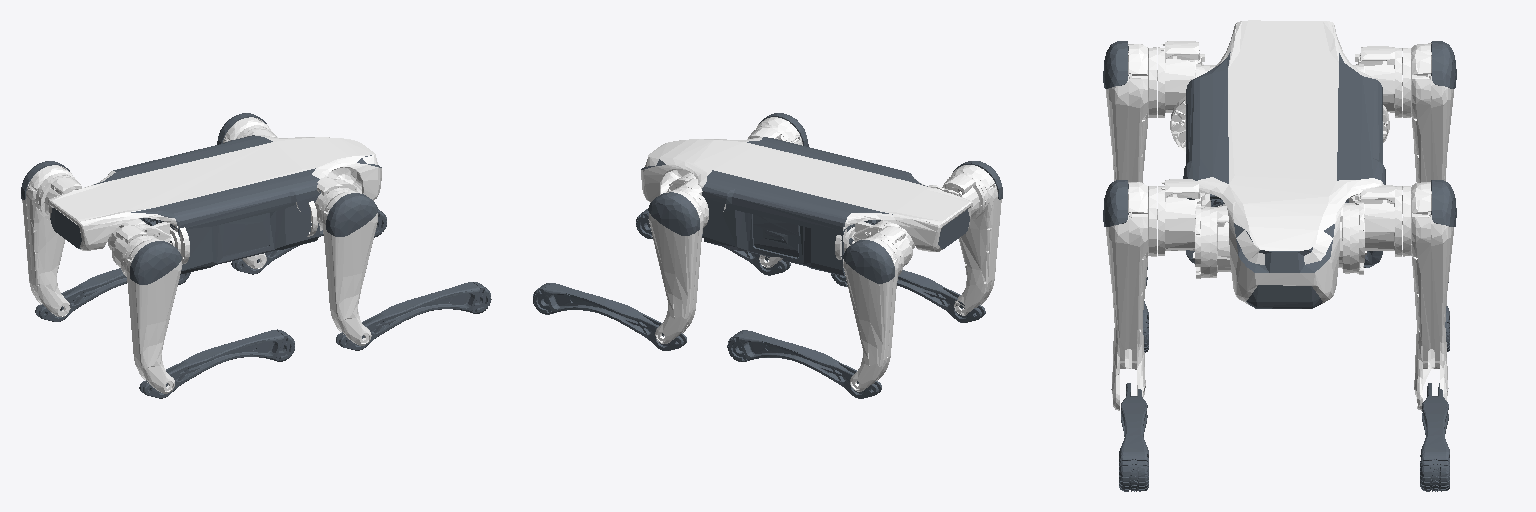
The robot description file, URDF, robot "MiniLiteV3":
<?xml version="1.0" encoding="utf-8"?> 
<robot name="MiniLiteV3"> 
  <link name="TORSO"> 
    <visual> 
      <origin rpy="1.5708 0 1.5708" xyz="-0.05 -0.5 0.08"/> 
      <geometry> 
        <mesh filename="package://lite3_description/meshes/TORSO.dae" /> 
      </geometry> 
    </visual> 
    <collision> 
      <geometry> 
        <box size="0.234 0.184 0.08"/> 
      </geometry> 
    </collision> 
  </link> 
 
  <link name="INERTIA"> 
    <inertial> 
      <origin xyz="0.004098 -0.000663 -0.002069" /> 
      <mass value="4.130" /> 
      <inertia ixx="0.016982120" ixy="2.1294E-05" ixz="6.0763E-05" iyy="0.030466501" iyz="1.7968E-05" izz="0.042609956" /> 
    </inertial> 
  </link> 
 
  <joint name="Torso2Inertia" type="fixed"> 
    <parent link="TORSO" /> 
    <child link="INERTIA" /> 
  </joint> 
 
  <link name="FL_HIP"> 
    <inertial> 
      <origin xyz="-0.0047 -0.0091 -0.0018" /> 
      <mass value="0.428" /> 
      <inertia ixx="0.00014538" ixy="8.1579E-07" ixz="-1.264E-05" iyy="0.00024024" iyz="1.3443E-06" izz="0.00013038" /> 
    </inertial> 
    <visual> 
      <origin rpy="1.5708 0 1.5708" xyz="-0.231 -0.55 0.09"/> 
      <geometry> 
        <mesh filename="package://lite3_description/meshes/FL_HIP.dae" /> 
      </geometry> 
    </visual> 
  </link> 
 
  <joint name="FL_HipX" type="revolute"> 
    <origin xyz="0.1745 0.062 0" /> 
    <parent link="TORSO" /> 
    <child link="FL_HIP" /> 
    <axis xyz="-1 0 0" /> 
    <limit lower="-0.523" upper="0.523" effort="40" velocity="30" /> 
  </joint> 
 
  <link name="FL_THIGH"> 
    <inertial> 
      <origin xyz="-0.00523 -0.0216 -0.0273" /> 
      <mass value="0.61" /> 
      <inertia ixx="0.001" ixy="-2.5E-06" ixz="-1.12E-04" iyy="0.00116" iyz="3.75E-07" izz="2.68E-04" /> 
    </inertial> 
    <visual> 
      <origin rpy="-2.0 0 1.5708" xyz="0.24 -0.66 0.021"/> 
      <geometry> 
        <mesh filename="package://lite3_description/meshes/L_THIGH.dae" /> 
      </geometry> 
    </visual> 
    <collision> 
      <origin xyz="0 0 -0.08"/> 
      <geometry> 
        <box size="0.02 0.02 0.16"/> 
      </geometry> 
    </collision> 
  </link> 
 
  <joint name="FL_HipY" type="revolute"> 
    <origin xyz="0 0.0985 0" /> 
    <parent link="FL_HIP" /> 
    <child link="FL_THIGH" /> 
    <axis xyz="0 -1 0" /> 
    <limit lower="-2.67" upper="0.314" effort="40" velocity="30" /> 
  </joint> 
 
  <link name="FL_SHANK"> 
    <inertial> 
      <origin xyz="0.00585 -8.732E-07 -0.12" /> 
      <mass value="0.115" /> 
      <inertia ixx="6.68E-04" ixy="-1.24E-08" ixz="6.91E-06" iyy="6.86E-04" iyz="5.65E-09" izz="3.155E-05" /> 
    </inertial> 
    <visual> 
      <geometry> 
        <mesh filename="package://lite3_description/meshes/SHANK.dae" /> 
      </geometry> 
    </visual> 
    <collision> 
      <origin xyz="0 0 -0.09"/> 
      <geometry> 
        <box size="0.02 0.02 0.18"/> 
      </geometry> 
    </collision> 
  </link> 
 
  <joint name="FL_Knee" type="revolute"> 
    <origin xyz="0 0 -0.20" /> 
    <parent link="FL_THIGH" /> 
    <child link="FL_SHANK" /> 
    <axis xyz="0 -1 0" /> 
    <limit lower="0.524" upper="2.792" effort="65" velocity="20" /> 
  </joint> 
 
  <link name="FL_FOOT"> 
    <inertial> 
      <mass value="1E-12" /> 
      <inertia ixx="1E-12" ixy="0" ixz="0" iyy="1E-12" iyz="0" izz="1E-12" /> 
    </inertial> 
    <collision> 
      <geometry> 
        <sphere radius="0.013"/> 
      </geometry> 
    </collision> 
  </link> 
 
  <joint name="FL_Ankle" type="fixed"> 
    <origin xyz="0 0 -0.21"/> 
    <parent link="FL_SHANK" /> 
    <child link="FL_FOOT" /> 
  </joint> 
 
  <link name="FR_HIP"> 
    <inertial> 
      <origin xyz="-0.0047 0.0091 -0.0018" /> 
      <mass value="0.428" /> 
      <inertia ixx="0.00014538" ixy="-8.1551E-07" ixz="-1.2639E-05" iyy="0.00024024" iyz="-1.3441E-06" izz="0.00013038" /> 
    </inertial> 
    <visual> 
      <origin rpy="1.5708 0 1.5708" xyz="-0.231 -0.46 0.085"/> 
      <geometry> 
        <mesh filename="package://lite3_description/meshes/FR_HIP.dae" /> 
      </geometry> 
    </visual> 
  </link> 
 
  <joint name="FR_HipX" type="revolute"> 
    <origin xyz="0.1745 -0.062 0" /> 
    <parent link="TORSO" /> 
    <child link="FR_HIP" /> 
    <axis xyz="-1 0 0" /> 
    <limit lower="-0.523" upper="0.523" effort="40" velocity="30" /> 
  </joint> 
 
  <link name="FR_THIGH"> 
    <inertial> 
      <origin xyz="-0.00523 0.0216 -0.0273" /> 
      <mass value="0.61" /> 
      <inertia ixx="0.001" ixy="2.5E-06" ixz="-1.12E-04" iyy="0.00116" iyz="-3.75E-07" izz="2.68E-04" /> 
    </inertial> 
    <visual> 
      <origin rpy="-2.0 0 1.5708" xyz="0.24 -0.35 0.021"/> 
      <geometry> 
        <mesh filename="package://lite3_description/meshes/R_THIGH.dae" /> 
      </geometry> 
    </visual> 
    <collision> 
      <origin xyz="0 0 -0.08"/> 
      <geometry> 
        <box size="0.02 0.02 0.16"/> 
      </geometry> 
    </collision> 
  </link> 
 
  <joint name="FR_HipY" type="revolute"> 
    <origin xyz="0 -0.0985 0" /> 
    <parent link="FR_HIP" /> 
    <child link="FR_THIGH" /> 
    <axis xyz="0 -1 0" /> 
    <limit lower="-2.67" upper="0.314" effort="40" velocity="30" /> 
  </joint> 
 
  <link name="FR_SHANK"> 
    <inertial> 
      <origin xyz="0.00585 -8.732E-07 -0.12" /> 
      <mass value="0.115" /> 
      <inertia ixx="6.68E-04" ixy="-1.24E-08" ixz="6.91E-06" iyy="6.86E-04" iyz="5.65E-09" izz="3.155E-05" /> 
    </inertial> 
    <visual> 
      <geometry> 
        <mesh filename="package://lite3_description/meshes/SHANK.dae" /> 
      </geometry> 
    </visual> 
    <collision> 
      <origin xyz="0 0 -0.09"/> 
      <geometry> 
        <box size="0.02 0.02 0.18"/> 
      </geometry> 
    </collision> 
  </link> 
 
  <joint name="FR_Knee" type="revolute"> 
    <origin xyz="0 0 -0.20" /> 
    <parent link="FR_THIGH" /> 
    <child link="FR_SHANK" /> 
    <axis xyz="0 -1 0" /> 
    <limit lower="0.524" upper="2.792" effort="65" velocity="20" /> 
  </joint> 
 
  <link name="FR_FOOT"> 
    <inertial> 
      <mass value="1E-12" /> 
      <inertia ixx="1E-12" ixy="0" ixz="0" iyy="1E-12" iyz="0" izz="1E-12" /> 
    </inertial> 
    <collision> 
      <geometry> 
        <sphere radius="0.013"/> 
      </geometry> 
    </collision> 
  </link> 
 
  <joint name="FR_Ankle" type="fixed"> 
    <origin xyz="0 0 -0.21"/> 
    <parent link="FR_SHANK" /> 
    <child link="FR_FOOT" /> 
  </joint> 
 
  <link name="HL_HIP"> 
    <inertial> 
      <origin xyz="0.0047 -0.0091 -0.0018" /> 
      <mass value="0.428" /> 
      <inertia ixx="0.00014538" ixy="-8.1585E-07" ixz="1.2639E-05" iyy="0.00024024" iyz="1.3444E-06" izz="0.00013038" /> 
    </inertial> 
    <visual> 
      <origin rpy="1.5708 0 1.5708" xyz="0.12 -0.55 0.09"/> 
      <geometry> 
        <mesh filename="package://lite3_description/meshes/HL_HIP.dae" /> 
      </geometry> 
    </visual> 
  </link> 
 
  <joint name="HL_HipX" type="revolute"> 
    <origin xyz="-0.1745 0.062 0" /> 
    <parent link="TORSO" /> 
    <child link="HL_HIP" /> 
    <axis xyz="-1 0 0" /> 
    <limit lower="-0.523" upper="0.523" effort="40" velocity="30" /> 
  </joint> 
 
  <link name="HL_THIGH"> 
    <inertial> 
      <origin xyz="-0.00523 -0.0216 -0.0273" /> 
      <mass value="0.61" /> 
      <inertia ixx="0.001" ixy="-2.5E-06" ixz="-1.12E-04" iyy="0.00116" iyz="3.75E-07" izz="2.68E-04" /> 
    </inertial> 
    <visual> 
      <origin rpy="-2.0 0 1.5708" xyz="0.24 -0.66 0.021"/> 
      <geometry> 
        <mesh filename="package://lite3_description/meshes/L_THIGH.dae" /> 
      </geometry> 
    </visual> 
    <collision> 
      <origin xyz="0 0 -0.08"/> 
      <geometry> 
        <box size="0.02 0.02 0.16"/> 
      </geometry> 
    </collision> 
  </link> 
 
  <joint name="HL_HipY" type="revolute"> 
    <origin xyz="0 0.0985 0" /> 
    <parent link="HL_HIP" /> 
    <child link="HL_THIGH" /> 
    <axis xyz="0 -1 0" /> 
    <limit lower="-2.67" upper="0.314" effort="40" velocity="30" /> 
  </joint> 
 
  <link name="HL_SHANK"> 
    <inertial> 
      <origin xyz="0.00585 -8.732E-07 -0.12" /> 
      <mass value="0.115" /> 
      <inertia ixx="6.68E-04" ixy="-1.24E-08" ixz="6.91E-06" iyy="6.86E-04" iyz="5.65E-09" izz="3.155E-05" /> 
    </inertial> 
    <visual> 
      <geometry> 
        <mesh filename="package://lite3_description/meshes/SHANK.dae" /> 
      </geometry> 
    </visual> 
    <collision> 
      <origin xyz="0 0 -0.09"/> 
      <geometry> 
        <box size="0.02 0.02 0.18"/> 
      </geometry> 
    </collision> 
  </link> 
 
  <joint name="HL_Knee" type="revolute"> 
    <origin xyz="0 0 -0.20" /> 
    <parent link="HL_THIGH" /> 
    <child link="HL_SHANK" /> 
    <axis xyz="0 -1 0" /> 
    <limit lower="0.524" upper="2.792" effort="65" velocity="20" /> 
  </joint> 
 
  <link name="HL_FOOT"> 
    <inertial> 
      <mass value="1E-12" /> 
      <inertia ixx="1E-12" ixy="0" ixz="0" iyy="1E-12" iyz="0" izz="1E-12" /> 
    </inertial> 
    <collision> 
      <geometry> 
        <sphere radius="0.013"/> 
      </geometry> 
    </collision> 
  </link> 
 
  <joint name="HL_Ankle" type="fixed"> 
    <origin xyz="0 0 -0.21"/> 
    <parent link="HL_SHANK" /> 
    <child link="HL_FOOT" /> 
  </joint> 
 
  <link name="HR_HIP"> 
    <inertial> 
      <origin xyz="0.0047 0.0091 -0.0018" /> 
      <mass value="0.428" /> 
      <inertia ixx="0.00014538" ixy="8.1545E-07" ixz="1.2639E-05" iyy="0.00024024" iyz="-1.344E-06" izz="0.00013038" /> 
    </inertial> 
    <visual> 
      <origin rpy="1.5708 0 1.5708" xyz="0.12 -0.46 0.09"/> 
      <geometry> 
        <mesh filename="package://lite3_description/meshes/HR_HIP.dae" /> 
      </geometry> 
    </visual> 
  </link> 
 
  <joint name="HR_HipX" type="revolute"> 
    <origin xyz="-0.1745 -0.062 0" /> 
    <parent link="TORSO" /> 
    <child link="HR_HIP" /> 
    <axis xyz="-1 0 0" /> 
    <limit lower="-0.523" upper="0.523" effort="40" velocity="30" /> 
  </joint> 
 
  <link name="HR_THIGH"> 
    <inertial> 
      <origin xyz="-0.00523 0.0216 -0.0273" /> 
      <mass value="0.61" /> 
      <inertia ixx="0.001" ixy="2.5E-06" ixz="-1.12E-04" iyy="0.00116" iyz="-3.75E-07" izz="2.68E-04" /> 
    </inertial> 
    <visual> 
      <origin rpy="-2.0 0 1.5708" xyz="0.24 -0.35 0.021"/> 
      <geometry> 
        <mesh filename="package://lite3_description/meshes/R_THIGH.dae" /> 
      </geometry> 
    </visual> 
    <collision> 
      <origin xyz="0 0 -0.08"/> 
      <geometry> 
        <box size="0.02 0.02 0.16"/> 
      </geometry> 
    </collision> 
  </link> 
 
  <joint name="HR_HipY" type="revolute"> 
    <origin xyz="0 -0.0985 0" /> 
    <parent link="HR_HIP" /> 
    <child link="HR_THIGH" /> 
    <axis xyz="0 -1 0" /> 
    <limit lower="-2.67" upper="0.314" effort="40" velocity="30" /> 
  </joint> 
 
  <link name="HR_SHANK"> 
    <inertial> 
      <origin xyz="0.00585 -8.732E-07 -0.12" /> 
      <mass value="0.115" /> 
      <inertia ixx="6.68E-04" ixy="-1.24E-08" ixz="6.91E-06" iyy="6.86E-04" iyz="5.65E-09" izz="3.155E-05" /> 
    </inertial> 
    <visual> 
      <geometry> 
        <mesh filename="package://lite3_description/meshes/SHANK.dae" /> 
      </geometry> 
    </visual> 
    <collision> 
      <origin xyz="0 0 -0.09"/> 
      <geometry> 
        <box size="0.02 0.02 0.18"/> 
      </geometry> 
    </collision> 
  </link> 
 
  <joint name="HR_Knee" type="revolute"> 
    <origin xyz="0 0 -0.20" /> 
    <parent link="HR_THIGH" /> 
    <child link="HR_SHANK" /> 
    <axis xyz="0 -1 0" /> 
    <limit lower="0.524" upper="2.792" effort="65" velocity="20" /> 
  </joint> 
 
  <link name="HR_FOOT"> 
    <inertial> 
      <mass value="1E-12" /> 
      <inertia ixx="1E-12" ixy="0" ixz="0" iyy="1E-12" iyz="0" izz="1E-12" /> 
    </inertial> 
    <collision> 
      <geometry> 
        <sphere radius="0.013"/> 
      </geometry> 
    </collision> 
  </link> 
 
  <joint name="HR_Ankle" type="fixed"> 
    <origin xyz="0 0 -0.21"/> 
    <parent link="HR_SHANK" /> 
    <child link="HR_FOOT" /> 
  </joint> 

  <link name="imu_link">
    <inertial>
      <origin xyz="0 0 0" rpy="0 0 0" />
      <mass value="0" />
      <inertia ixx="0" ixy="0" ixz="0" iyy="0" iyz="0" izz="0" />
    </inertial>
  </link>
  <joint name="imu_joint" type="fixed">
    <origin xyz="-0.02557 0 0.04232" rpy="0 0 0" />
    <parent link="TORSO" />
    <child link="imu_link" />
    <axis xyz="0 0 0" />
  </joint>
  <link name="radar">
    <inertial>
      <origin xyz="0 0 0" rpy="0 0 0" />
      <mass value="0" />
      <inertia ixx="0" ixy="0" ixz="0" iyy="0" iyz="0" izz="0" />
    </inertial>
  </link>
  <joint name="radar_joint" type="fixed">
    <origin xyz="0.28945 0 -0.046825" rpy="0 2.8782 0" />
    <parent link="TORSO" />
    <child link="radar" />
    <axis xyz="0 0 0" />
  </joint>
 
</robot> 

--- Facts derived from the render (not from the file) ---
3 views of the same robot in one strip: view 1: azimuth 30°, elevation 25°; view 2: azimuth 150°, elevation 25°; view 3: azimuth 270°, elevation 25° (orthographic).
Robot: MiniLiteV3 — 20 links, 19 joints (12 revolute, 7 fixed); root link TORSO; default pose: joints at zero except 4 at the middle of their limits (FL_Knee = 1.66, FR_Knee = 1.66, HL_Knee = 1.66, HR_Knee = 1.66).
Visible links, largest first — view 1: TORSO, HR_THIGH, FR_THIGH, HL_THIGH, HR_SHANK, FR_SHANK, HL_SHANK, FL_THIGH, HR_HIP, FL_SHANK; view 2: TORSO, HL_THIGH, FL_THIGH, HR_THIGH, HL_SHANK, FL_SHANK, HR_SHANK, FR_THIGH, FR_SHANK, HL_HIP; view 3: TORSO, FR_THIGH, FL_THIGH, HR_THIGH, HL_THIGH, FL_SHANK, FR_SHANK, FR_HIP, FL_HIP, HR_HIP.
Boxes of the visible links, x1,y1,x2,y2 form: TORSO: (48, 135, 381, 274); HR_THIGH: (112, 225, 181, 393); FR_THIGH: (315, 177, 377, 345); HL_THIGH: (21, 161, 81, 316); HR_SHANK: (139, 329, 294, 398); FR_SHANK: (336, 282, 491, 350); HL_SHANK: (35, 268, 190, 321); FL_THIGH: (217, 113, 277, 268); HR_HIP: (108, 219, 189, 264); FL_SHANK: (231, 209, 386, 274); TORSO: (641, 137, 972, 275); HL_THIGH: (843, 226, 912, 391); FL_THIGH: (648, 178, 708, 343); HR_THIGH: (942, 161, 1002, 315); HL_SHANK: (727, 330, 881, 398); FL_SHANK: (533, 283, 686, 350); HR_SHANK: (831, 270, 985, 322); FR_THIGH: (748, 113, 808, 267); FR_SHANK: (636, 209, 790, 275); HL_HIP: (835, 220, 914, 261); TORSO: (1183, 20, 1385, 308); FR_THIGH: (1103, 179, 1204, 410); FL_THIGH: (1355, 180, 1456, 410); HR_THIGH: (1103, 41, 1204, 182); HL_THIGH: (1355, 41, 1456, 182); FL_SHANK: (1420, 383, 1449, 491); FR_SHANK: (1119, 383, 1148, 491); FR_HIP: (1193, 192, 1230, 278); FL_HIP: (1339, 196, 1366, 274); HR_HIP: (1170, 64, 1215, 151).
Bounding box of the posed robot: 0.6612 × 0.3767 × 0.2715 m (x, y, z).
Meshes: 8 distinct files referenced, 13 mesh visuals loaded (8 Collada DAE).